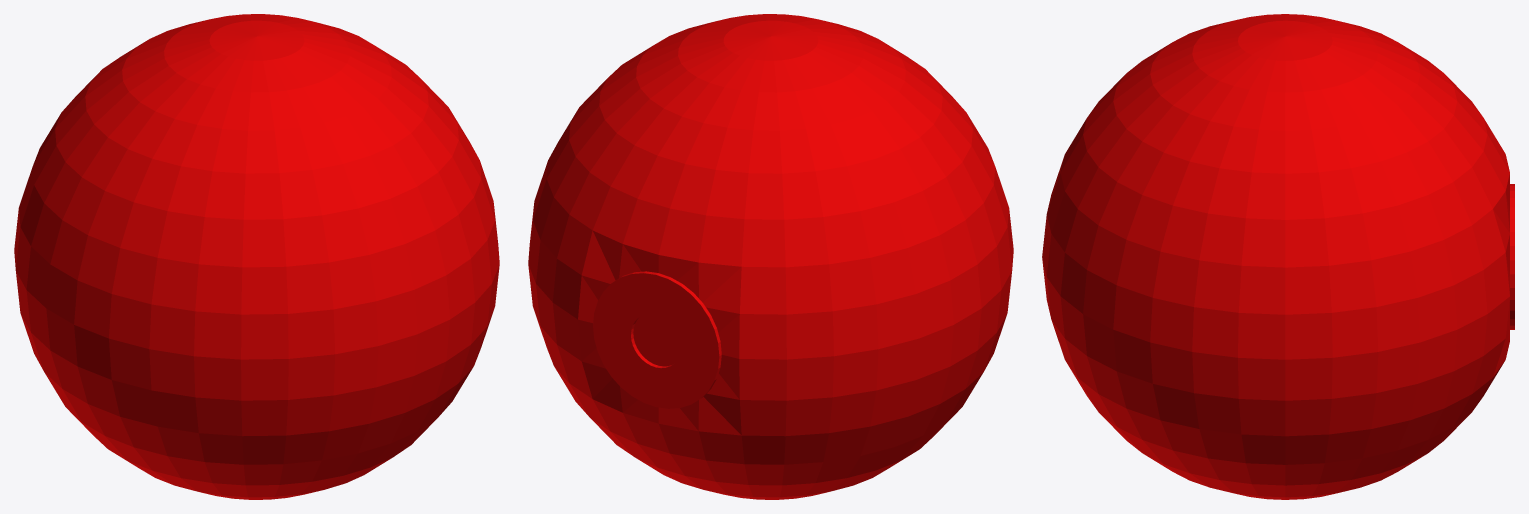
Rendered from Enemy.dae.
The picture shows the model from 3 angles, left to right: view 1: azimuth 30°, elevation 25°; view 2: azimuth 150°, elevation 25°; view 3: azimuth 270°, elevation 25°; orthographic projection.
Parts seen in each view (by area): view 1: Sphere; view 2: Sphere; view 3: Sphere.
Boxes of the visible parts, box(x1,y1,x2,y2) form: Sphere: box(14, 14, 499, 499); Sphere: box(528, 14, 1013, 499); Sphere: box(1042, 14, 1514, 499).
Size of the model in its own units: 2 by 1.94 by 2.
